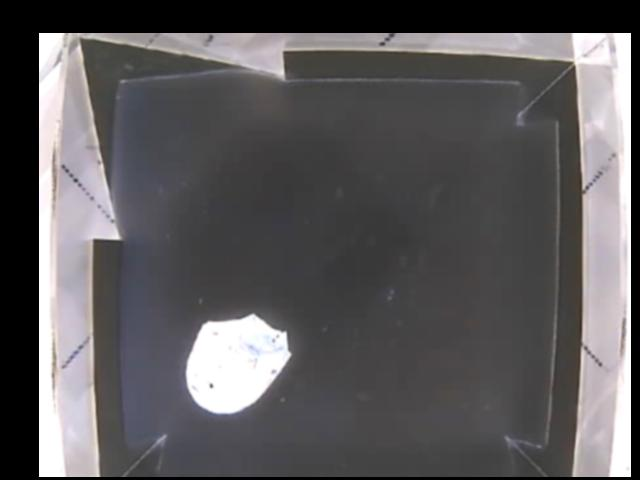Shell: (187, 310, 291, 412)
